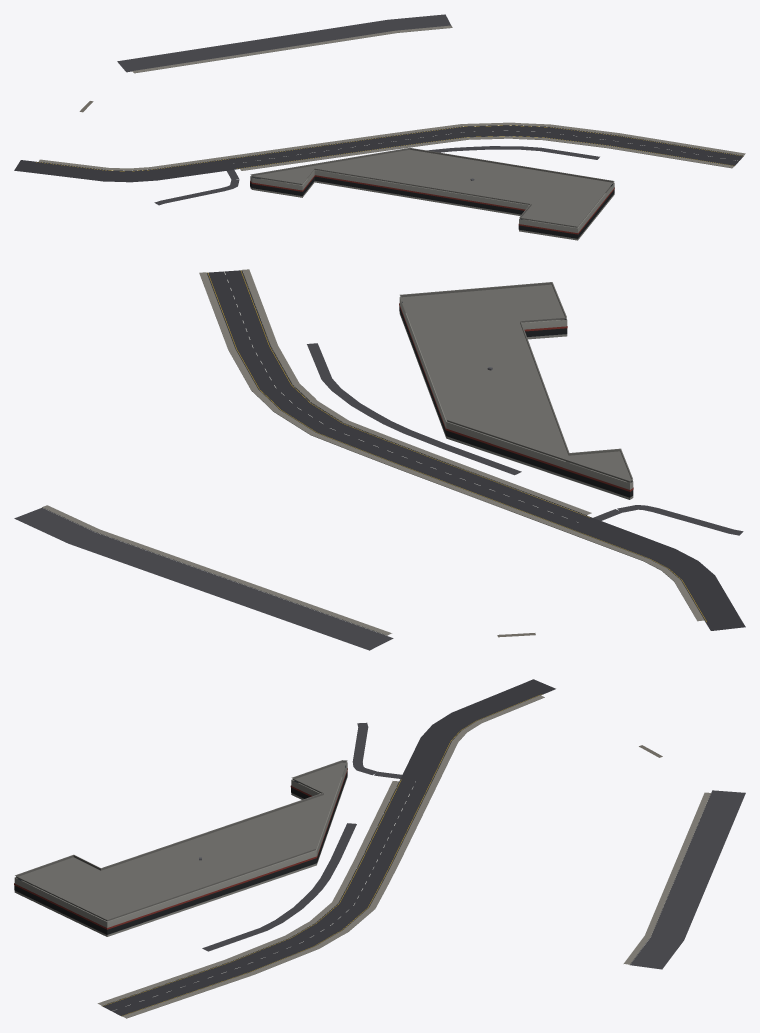
The picture shows the model from 3 angles, top to bottom: view 1: azimuth 30°, elevation 25°; view 2: azimuth 150°, elevation 25°; view 3: azimuth 270°, elevation 25°; orthographic projection. The views are drawn at different scales.
Parts seen in each view (by area): view 1: SM City Cebu Northwing Expansion-col, Roads_Major__r-10c3, Roads_Minor__r-10c3, Sidewalks__r-10c3-col, Markings__r-10c3; view 2: SM City Cebu Northwing Expansion-col, Roads_Major__r-10c3, Roads_Minor__r-10c3, Sidewalks__r-10c3-col, Markings__r-10c3; view 3: SM City Cebu Northwing Expansion-col, Roads_Major__r-10c3, Roads_Minor__r-10c3, Sidewalks__r-10c3-col, Markings__r-10c3.
Boxes of the visible parts, x1,y1,x2,y2 form: SM City Cebu Northwing Expansion-col: [250, 148, 614, 240]; Roads_Major__r-10c3: [14, 125, 743, 182]; Roads_Minor__r-10c3: [117, 14, 599, 205]; Sidewalks__r-10c3-col: [38, 25, 745, 170]; Markings__r-10c3: [36, 125, 742, 171]; SM City Cebu Northwing Expansion-col: [399, 282, 633, 499]; Roads_Major__r-10c3: [207, 270, 745, 630]; Roads_Minor__r-10c3: [14, 343, 743, 650]; Sidewalks__r-10c3-col: [42, 269, 704, 635]; Markings__r-10c3: [207, 270, 706, 621]; SM City Cebu Northwing Expansion-col: [14, 760, 347, 936]; Roads_Major__r-10c3: [102, 679, 555, 1016]; Roads_Minor__r-10c3: [202, 722, 745, 969]; Sidewalks__r-10c3-col: [97, 695, 710, 1018]; Markings__r-10c3: [102, 694, 541, 1016].
Size of the model in its own units: 320 by 7.45 by 291.
